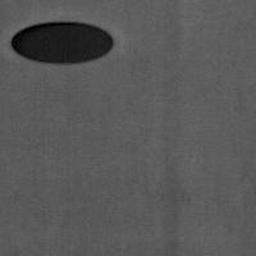Punching: (12, 22, 114, 65)
